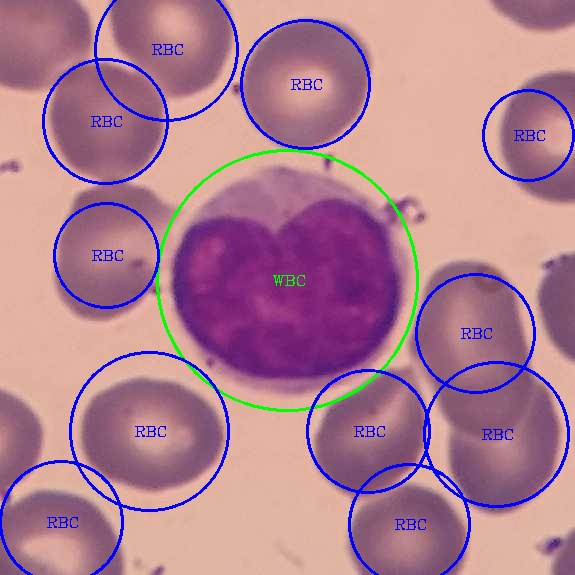RBC: (410, 254, 534, 437), (235, 13, 374, 156), (52, 171, 175, 323), (77, 371, 230, 493), (441, 373, 566, 520), (309, 364, 429, 502), (47, 58, 168, 183), (107, 0, 236, 100), (342, 479, 471, 573), (492, 62, 574, 208), (0, 486, 129, 573), (0, 0, 94, 92)
WBC: (164, 162, 412, 398)
